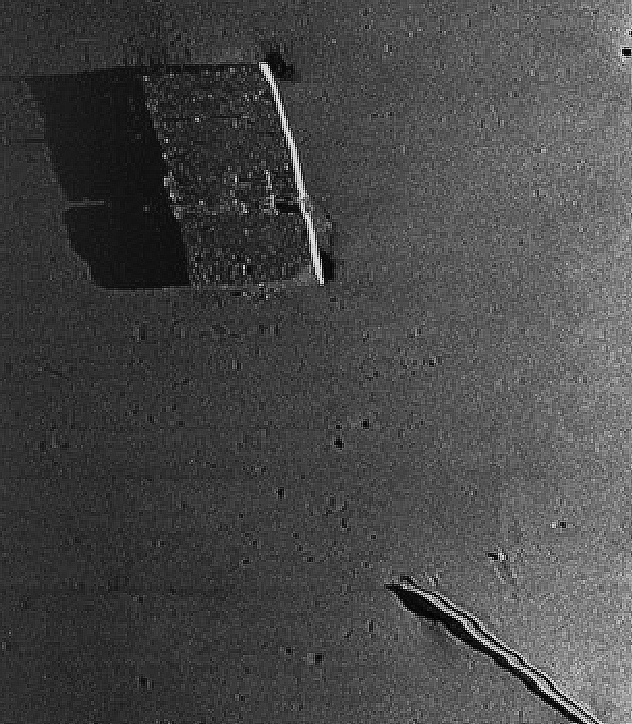ship: (130, 58, 339, 300)
